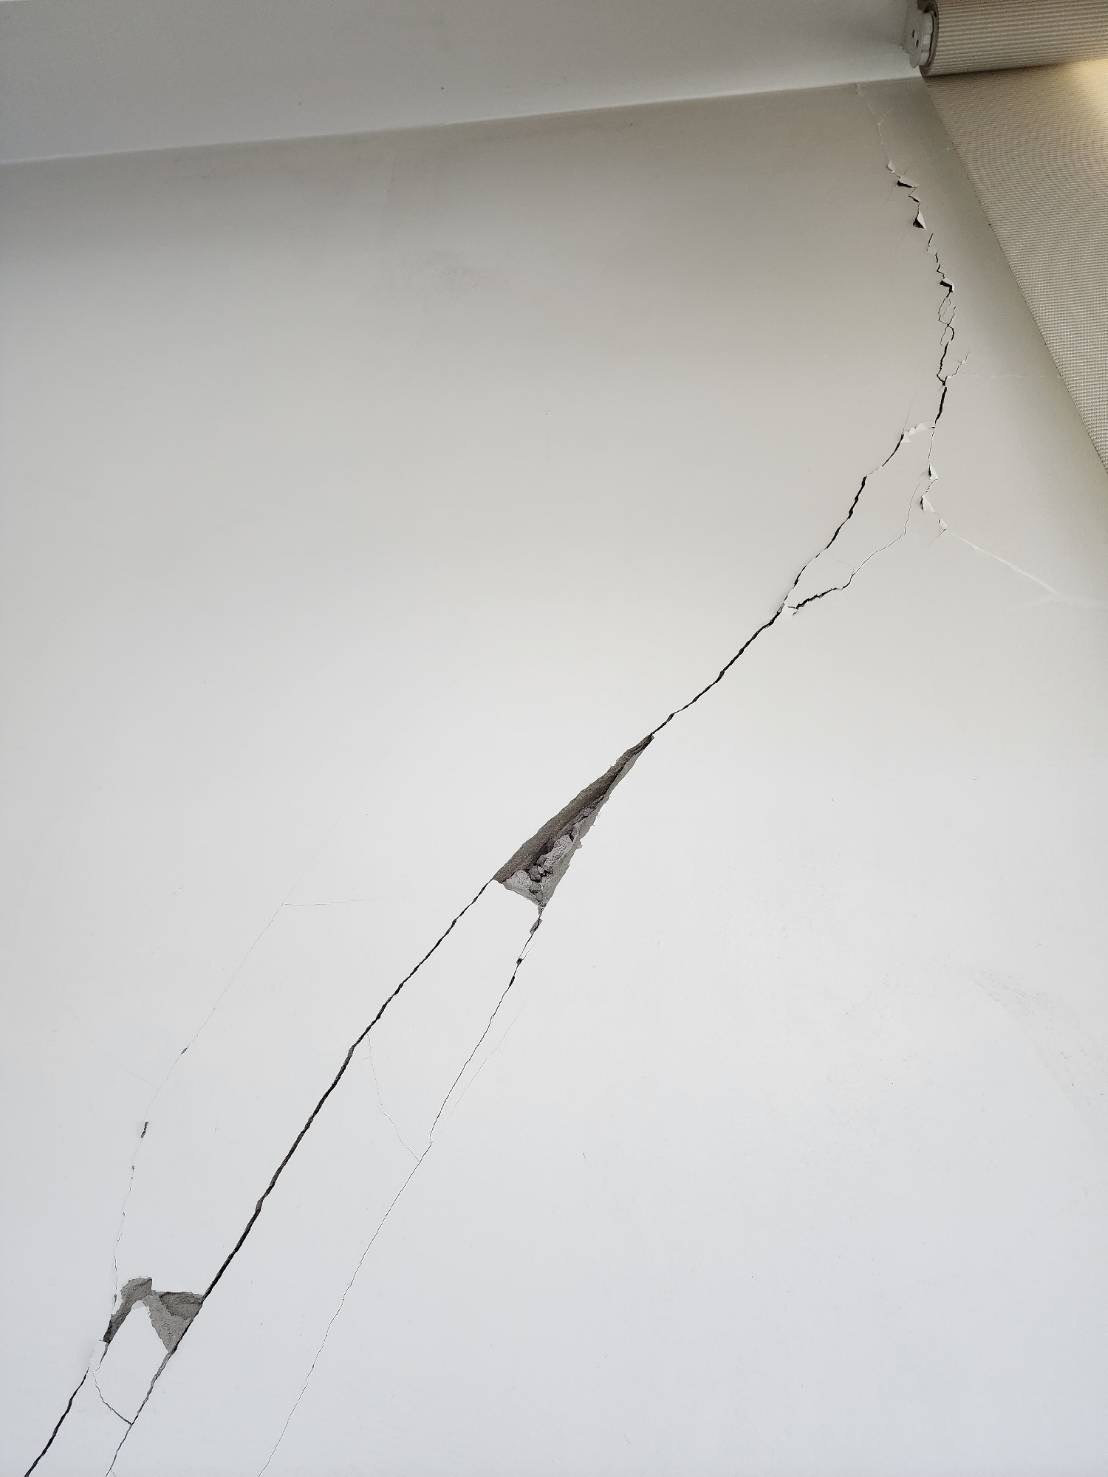Medium: (91, 726, 687, 1365)
